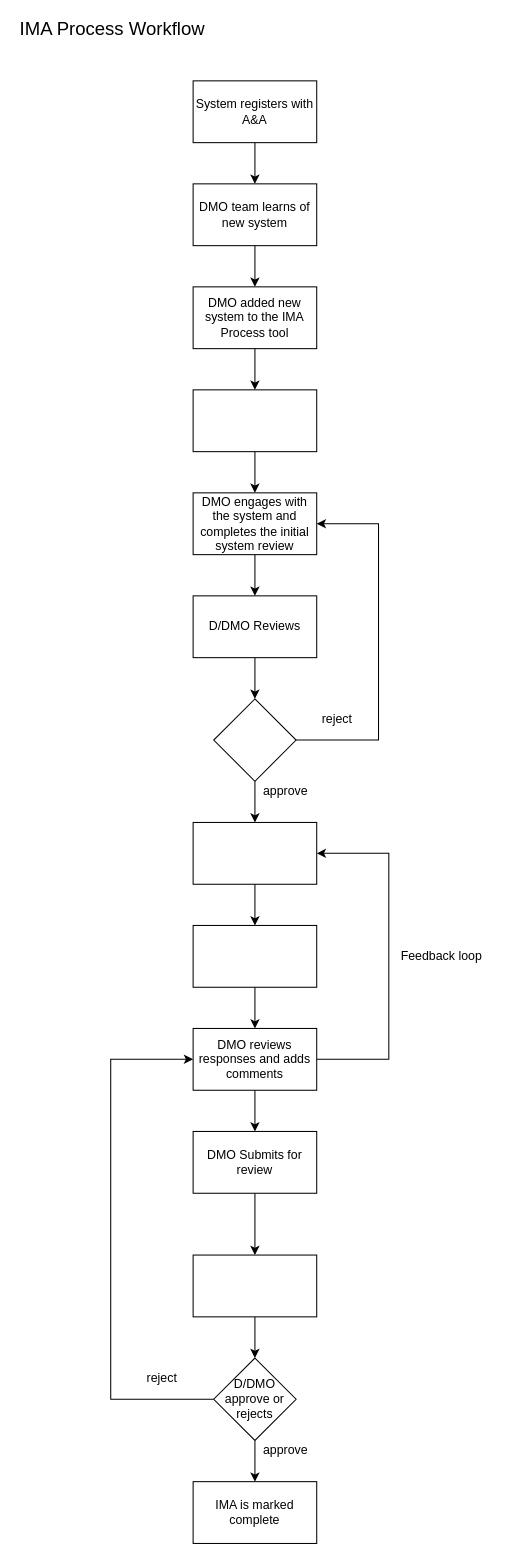
This 529x1561 diagram has some shape labels left out. Each missing label, with the centre of its shape:
"D/DMO Approves /Rejects" belongs at pixel 254 739.
"D/DMO reviews IMA" belongs at pixel 254 1285.
"DMO sends a series of questions to the system for review." belongs at pixel 254 852.
"DMO traffic cop reviews the system and assigns it to DMO" belongs at pixel 254 420.
"System returns the answers to the question to DMO" belongs at pixel 254 955.
